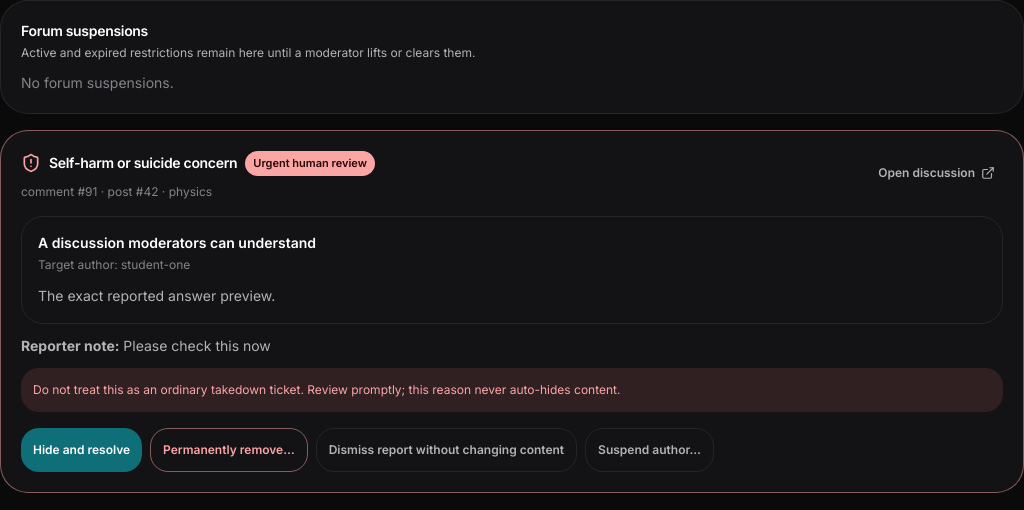
forum moderation queue › shows actionable content context and urgent self-harm handling
Expected: the text "The exact reported answer preview." is shown, top-left (38, 286), bottom-right (275, 304)
Expected: the text "comment #91 · post #42 · physics" is shown, top-left (21, 184), bottom-right (212, 198)
Click the button "Hide and resolve". click: [82, 450]
box: top-left (21, 428), bottom-right (142, 472)
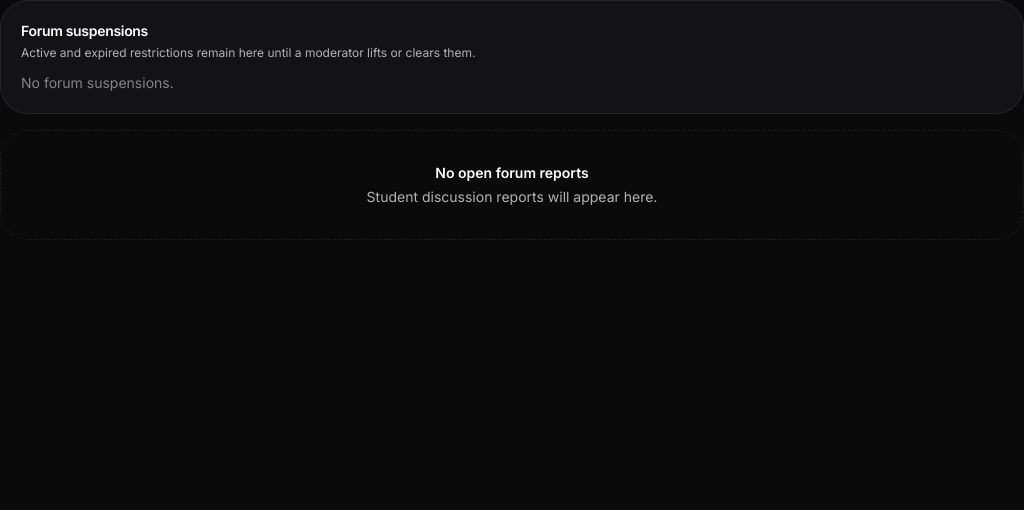
Now the text "No open forum reports" is shown, box top-left (435, 164), bottom-right (589, 181)
